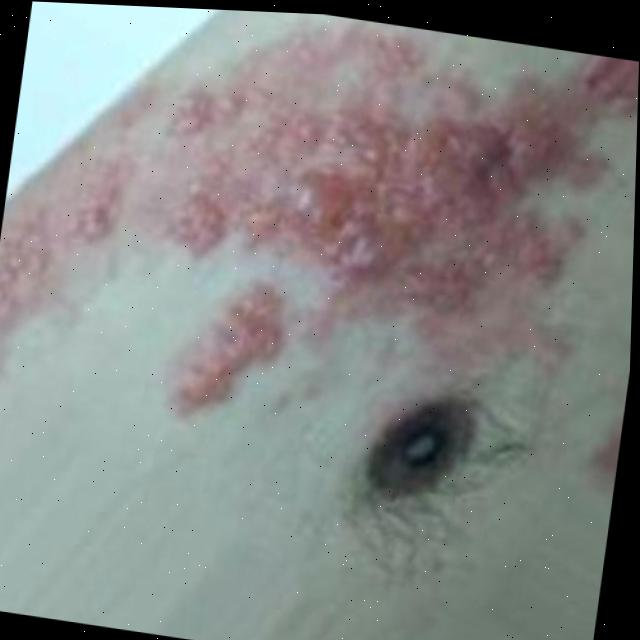Shingles: (149, 17, 586, 320), (0, 147, 131, 368), (153, 281, 291, 417), (599, 55, 639, 108)
